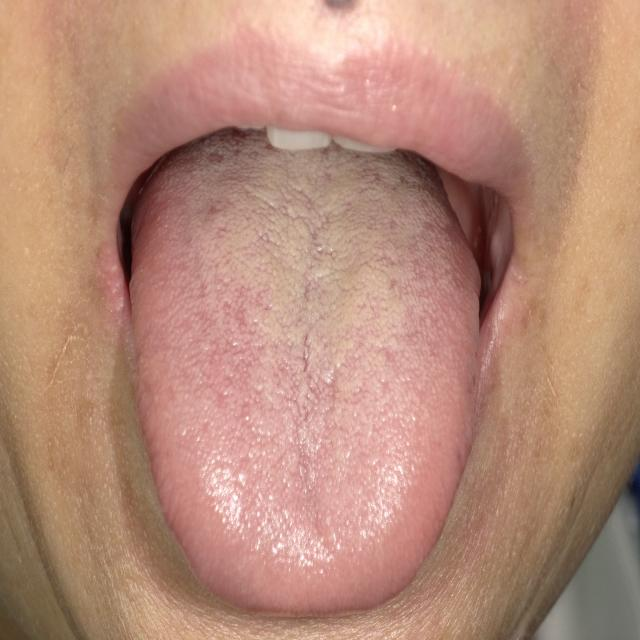huangtaishe: (130, 128, 478, 616)
